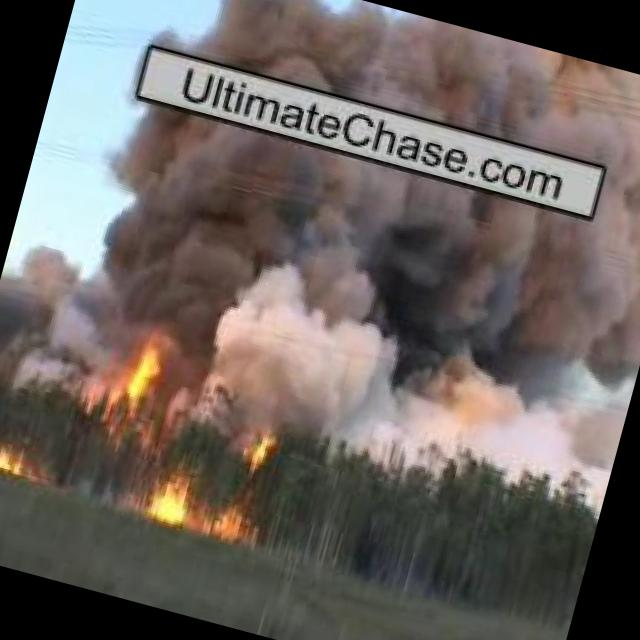Fire: (0, 84, 640, 510), (162, 0, 640, 183), (222, 416, 283, 544), (136, 452, 200, 530), (122, 332, 174, 420), (0, 443, 32, 474)
